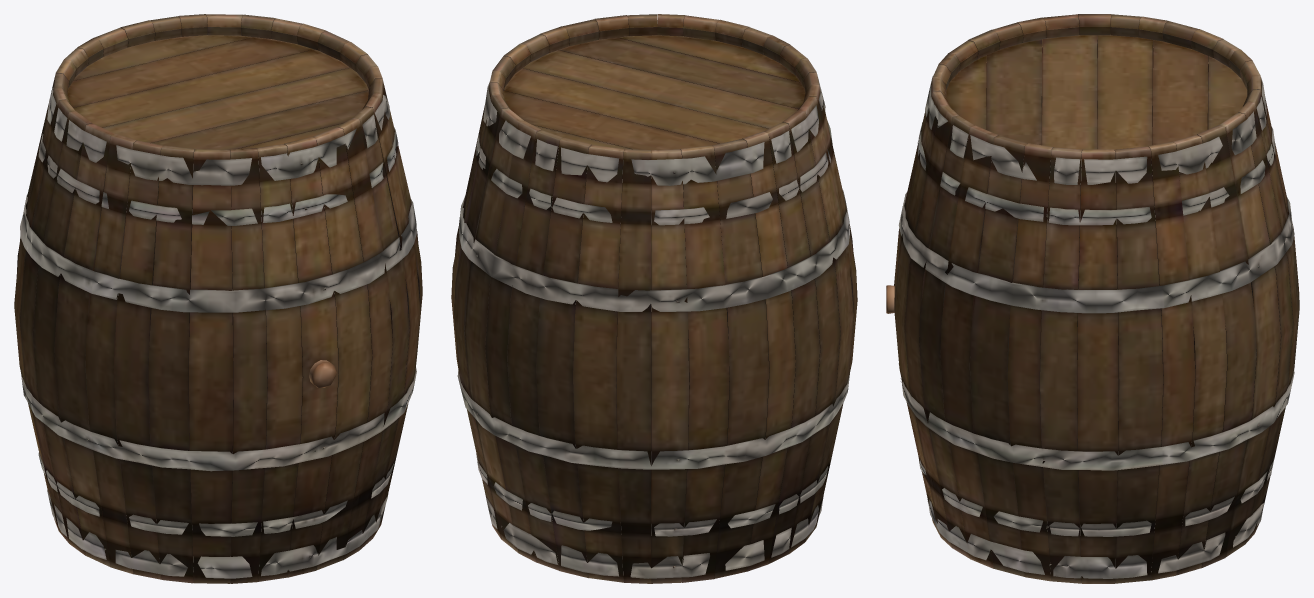
File: wine_barrel_01.glb
3 views of the same model, side by side, from view 1: azimuth 30°, elevation 25°; view 2: azimuth 150°, elevation 25°; view 3: azimuth 270°, elevation 25° (orthographic).
Visible parts, largest first — view 1: wine_barrel_01_Lid; view 2: wine_barrel_01_Lid; view 3: wine_barrel_01_Lid.
Part boxes in pixels (x1,y1,x2,y2): wine_barrel_01_Lid: (14,14,422,583); wine_barrel_01_Lid: (451,14,857,583); wine_barrel_01_Lid: (886,14,1299,583).
Size of the model in its own units: 0.7419 by 0.8695 by 0.7554.
1 material, 1 textured.
